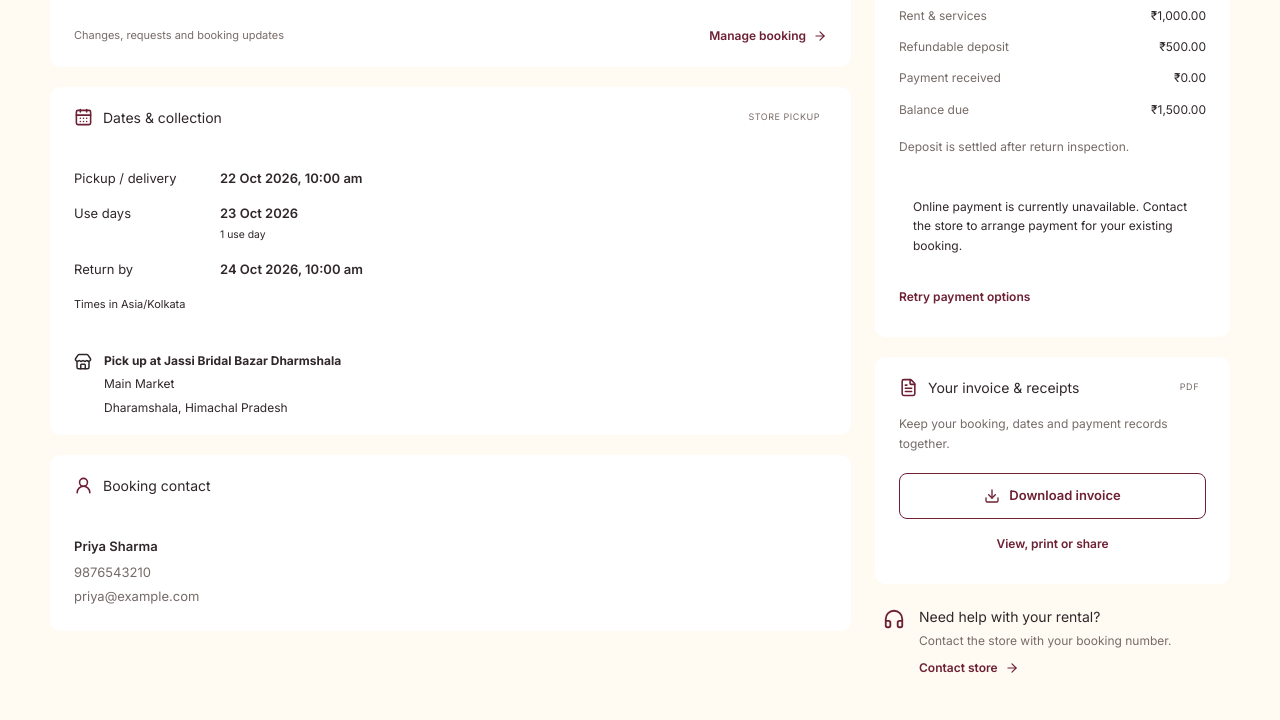
Scenario: invoice preview includes dates, deposit, payment status and PDF/print actions
The image size is (1280, 720).
(page scrolled)
Click the button "View, print or share". click: (1052,544)
box: [899,526,1206,562]
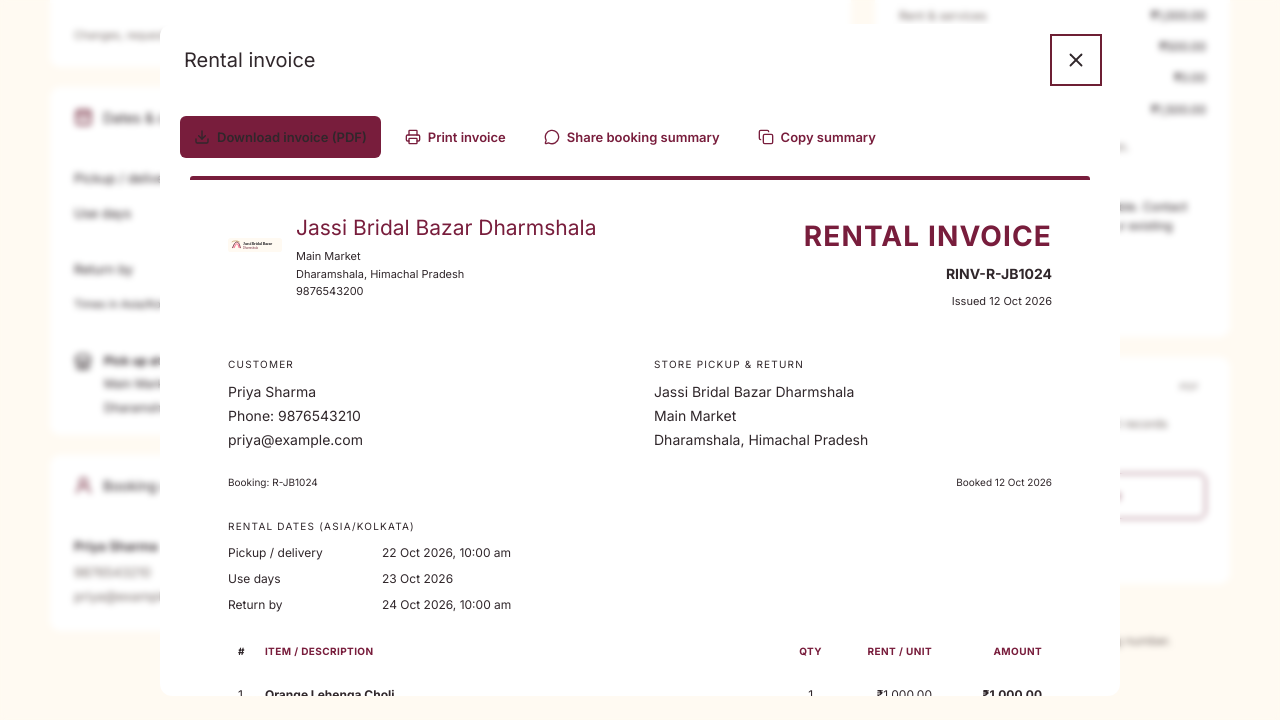
Check: the text "Booking: R-JB1024" is shown, box [228,474,318,490]
Check: the button "Print invoice" is shown, box [391,116,520,158]
Check: the button "Download invoice (PDF)" is shown, box [180,116,381,158]
Click the button named "Close dialog". click: (1076,60)
box: [1056,40,1096,80]
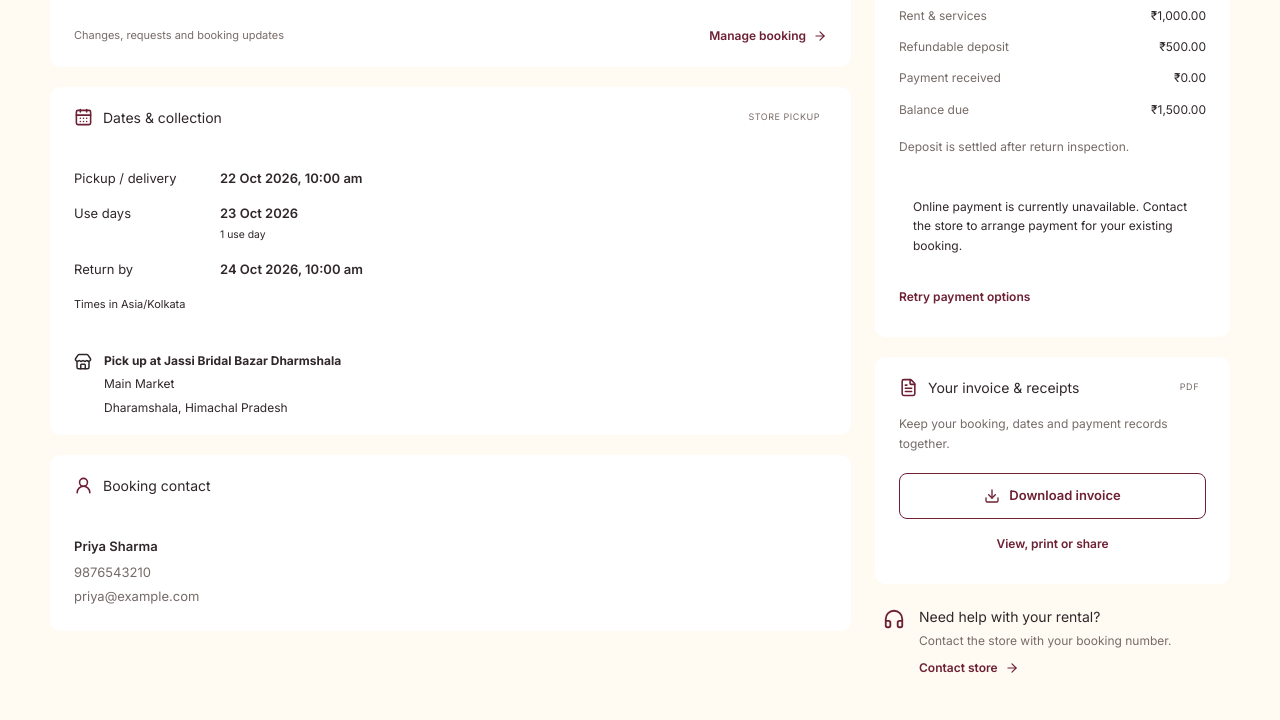
Check: the dialog is gone
